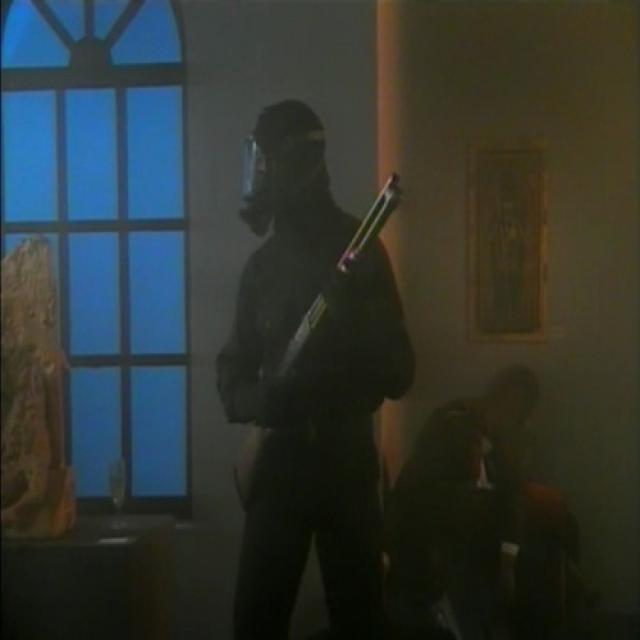rifle: (229, 168, 404, 511)
